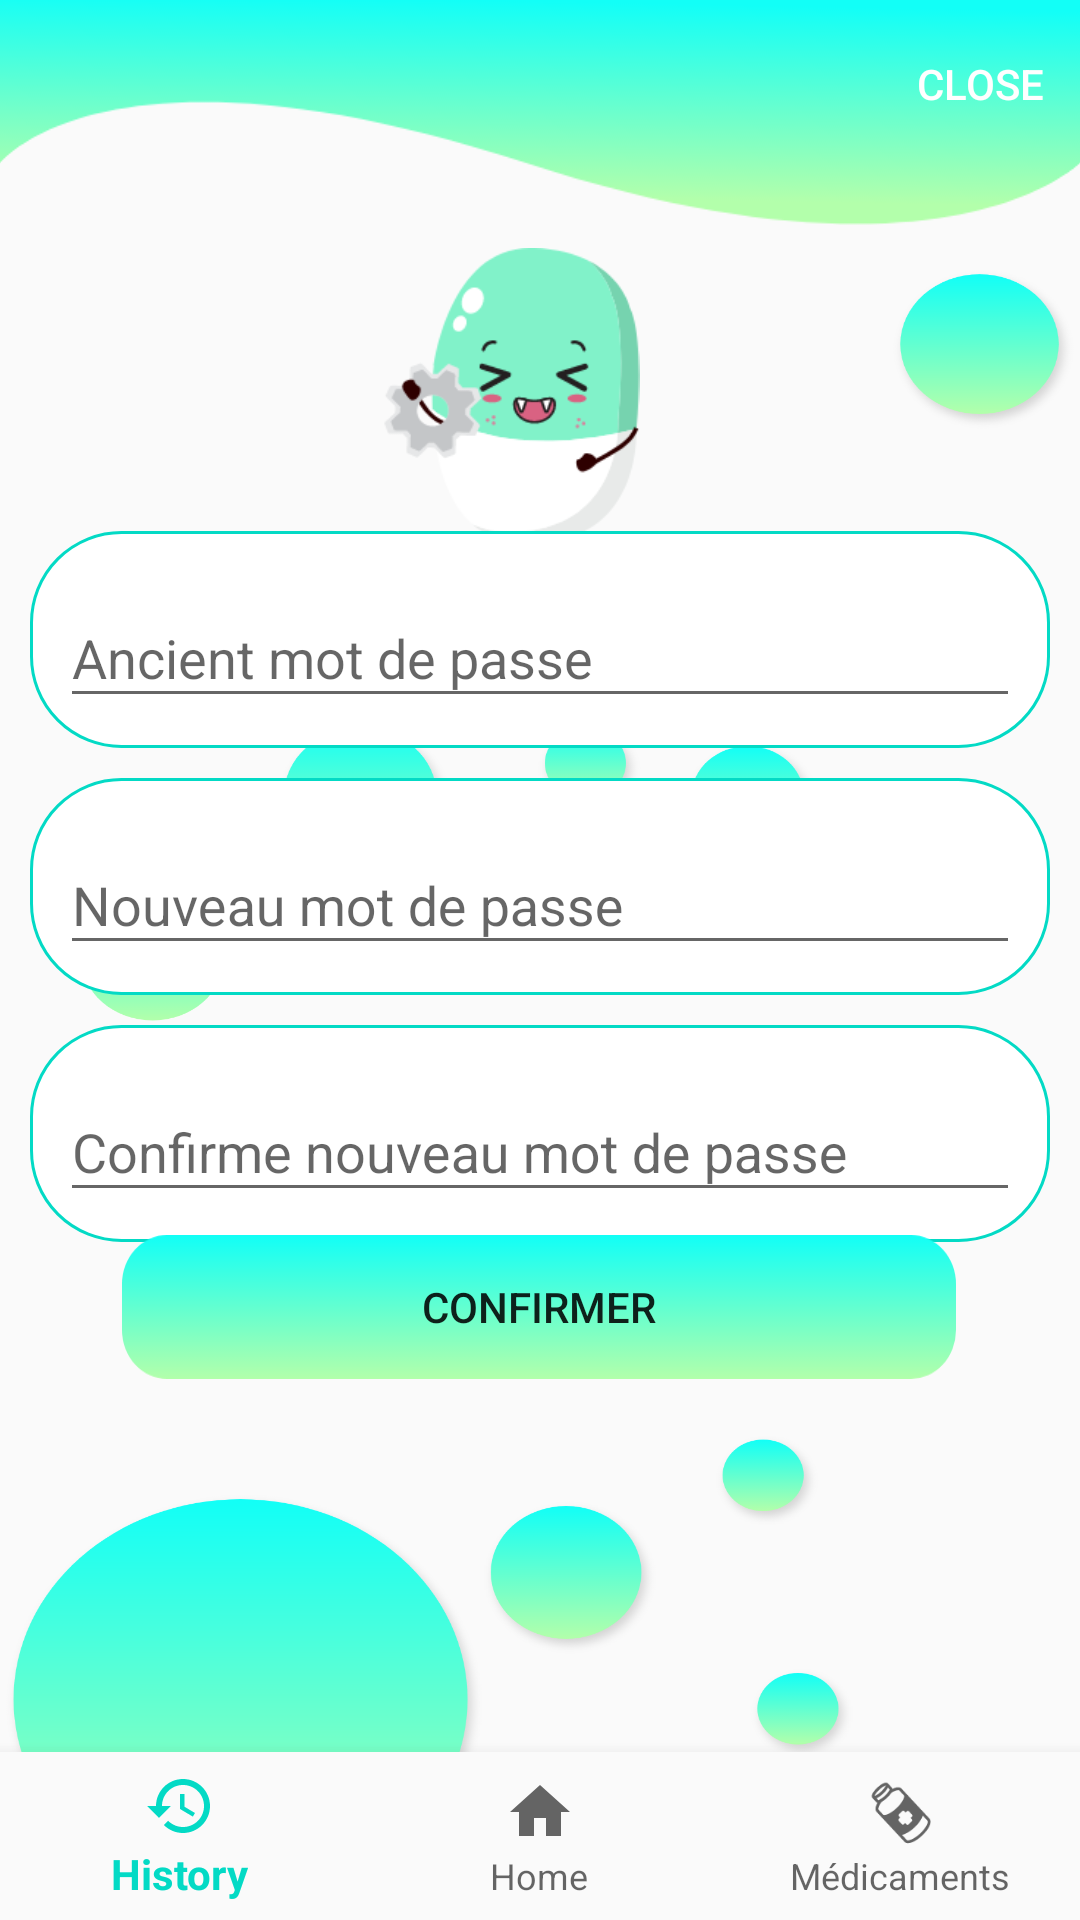

Screen size 1080px x 1920px. Icon name, then its box in pixels as (x1, y1, x2, y2):
piluparam: (390, 248, 640, 473)
